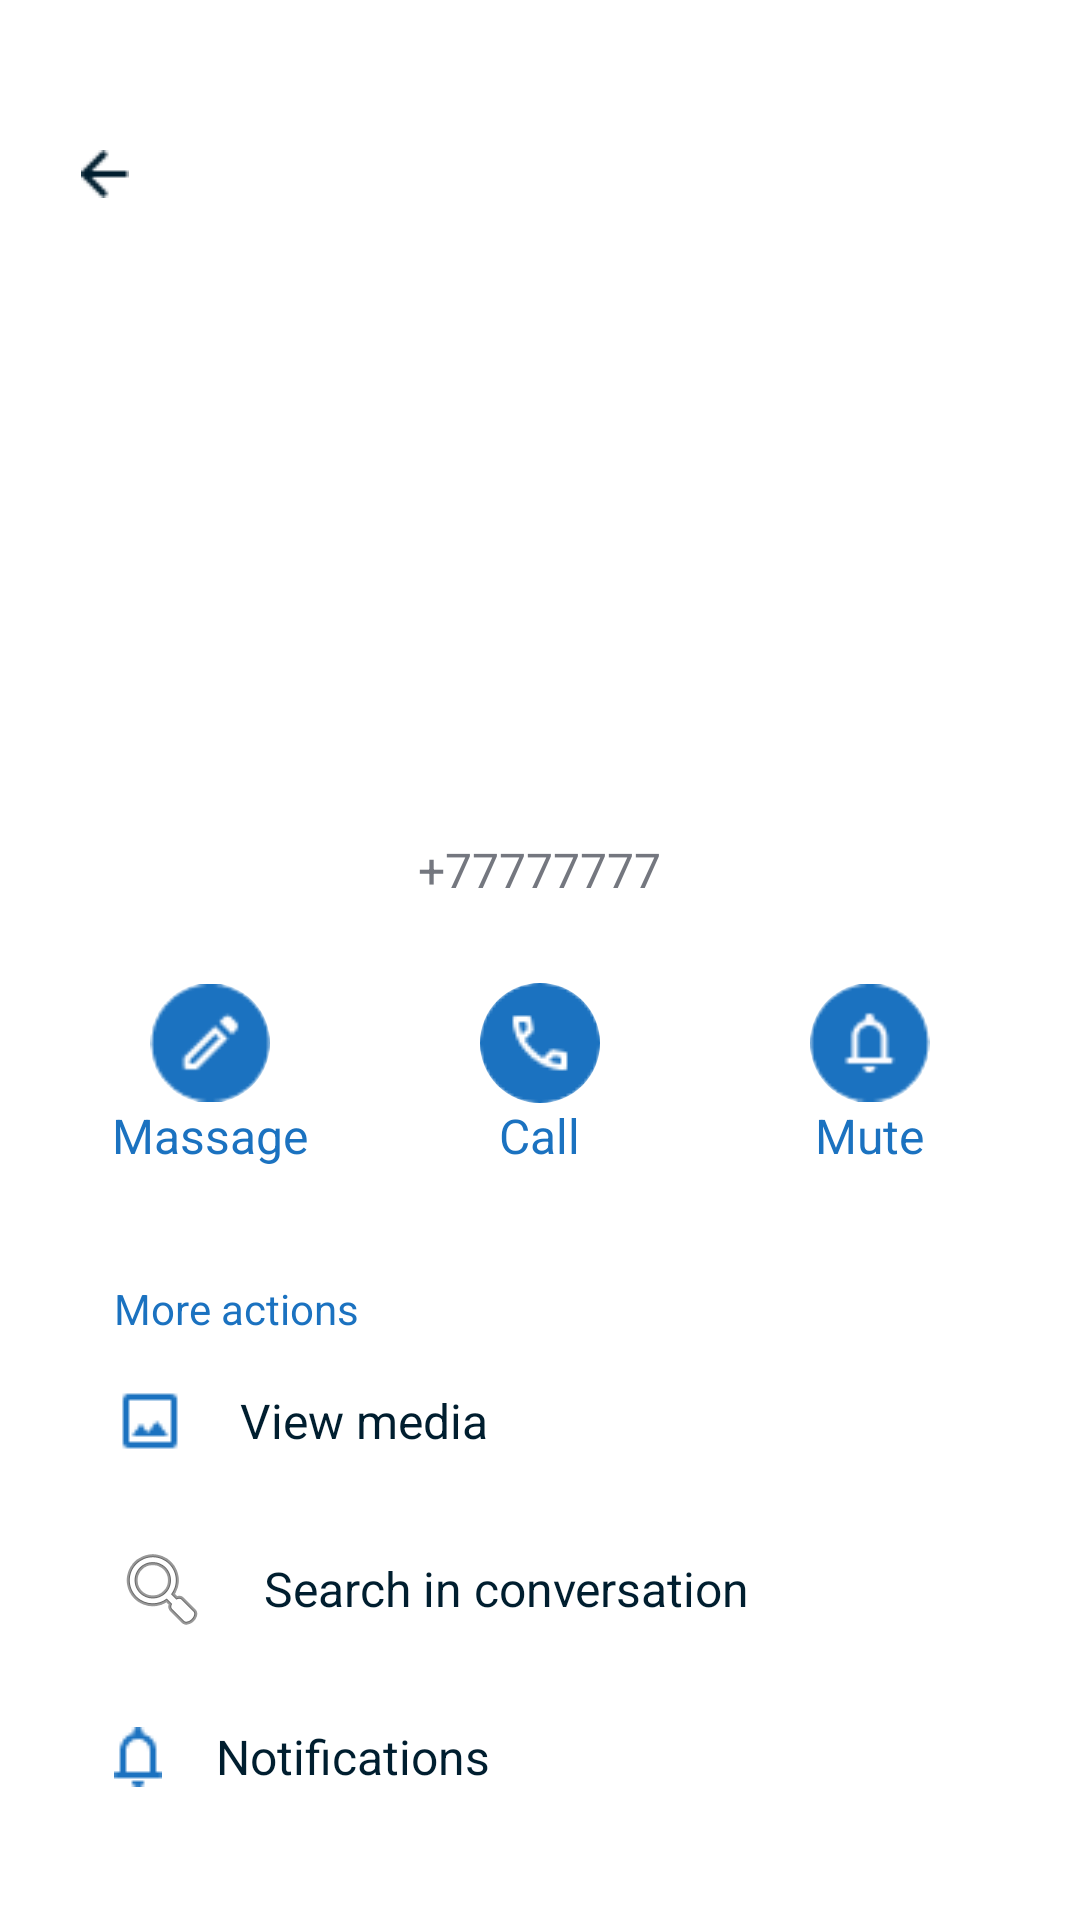

Where to tap for icons on this 1080px×1920px app screen, as [x,y]:
arrow back: [105,174]
